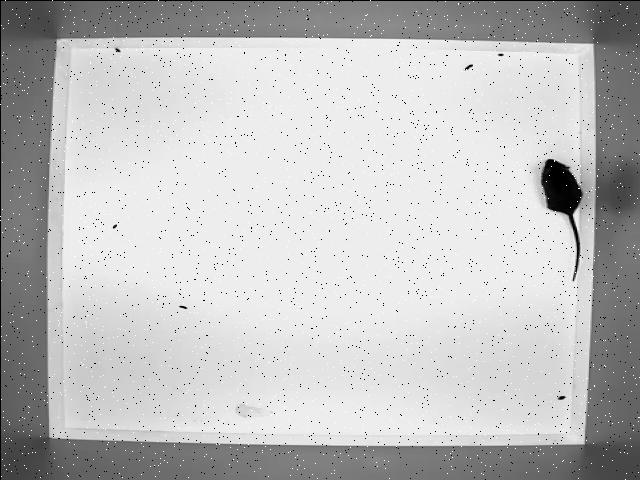Tikus: (528, 154, 589, 286)
